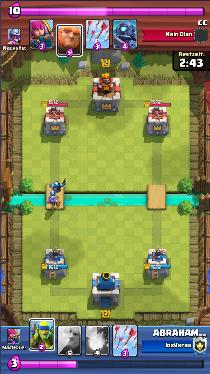ally_mini_pekka: (49, 178, 67, 193)
ally_musketeer: (47, 194, 59, 207)
